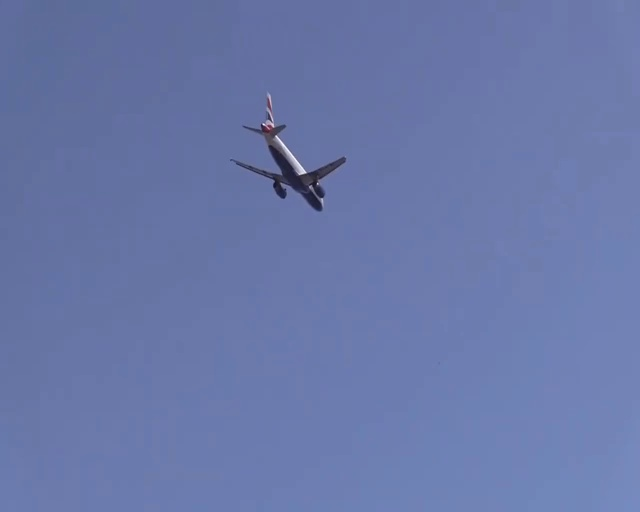AIRPLANE: (229, 91, 346, 211)
